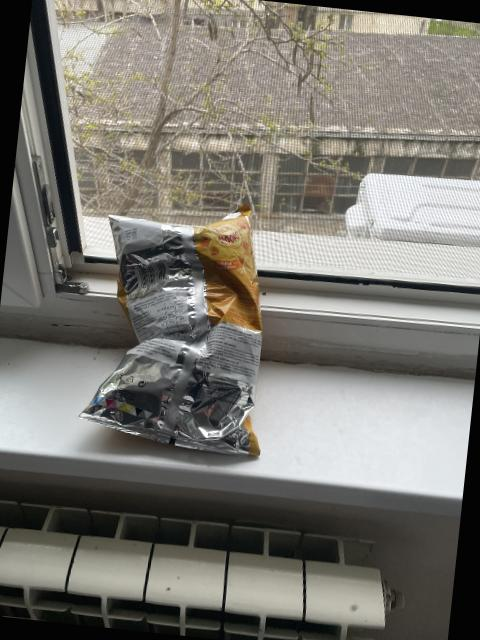Chio Hula Hoops Cheese 70g: (80, 201, 288, 452)
